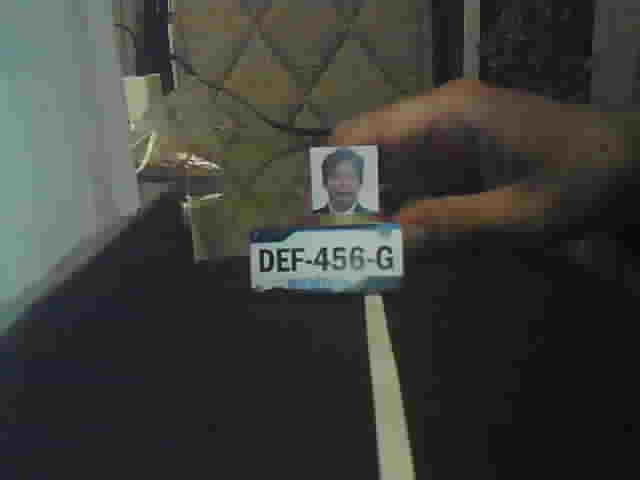PLACA: (247, 222, 407, 294)
ROSTRO: (309, 143, 380, 215)
